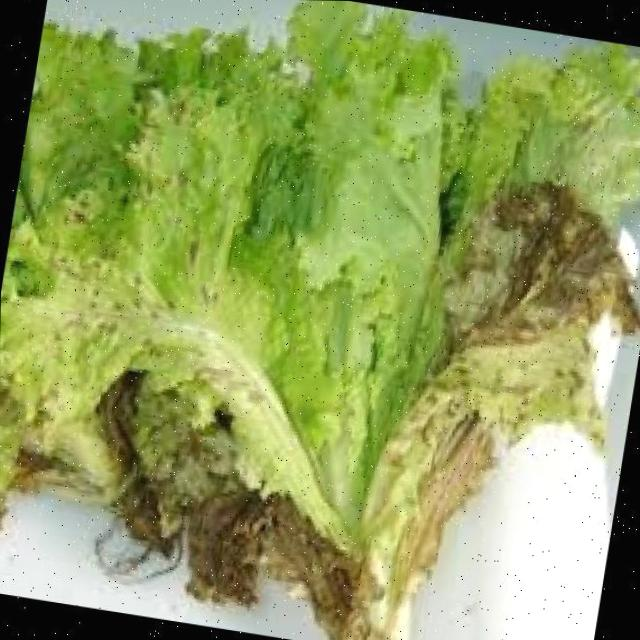Septoria_Blight: (14, 57, 622, 410)
